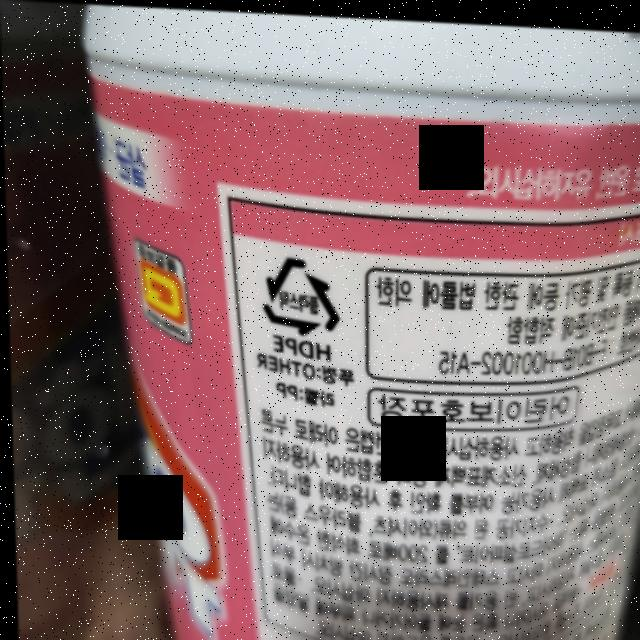Plastic: (256, 246, 342, 337)
